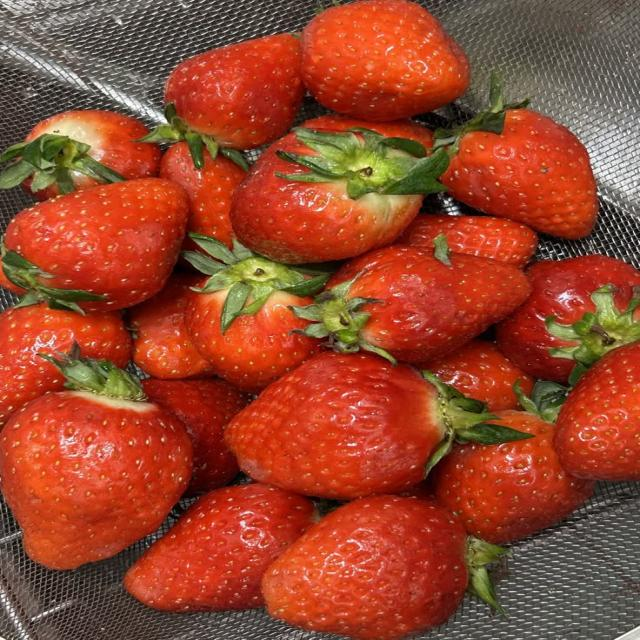strawberry: (226, 351, 524, 499), (0, 358, 192, 569), (263, 495, 506, 639), (230, 128, 447, 263), (294, 245, 530, 365), (435, 79, 599, 238), (2, 177, 188, 311), (124, 483, 317, 612), (184, 235, 326, 390), (430, 410, 593, 544), (149, 34, 305, 165), (301, 0, 470, 120), (496, 254, 639, 383), (0, 303, 131, 427), (0, 109, 160, 200), (142, 378, 251, 495), (554, 341, 639, 481), (126, 270, 213, 379), (159, 141, 245, 246), (428, 338, 534, 412), (397, 214, 538, 267), (300, 112, 433, 148)
